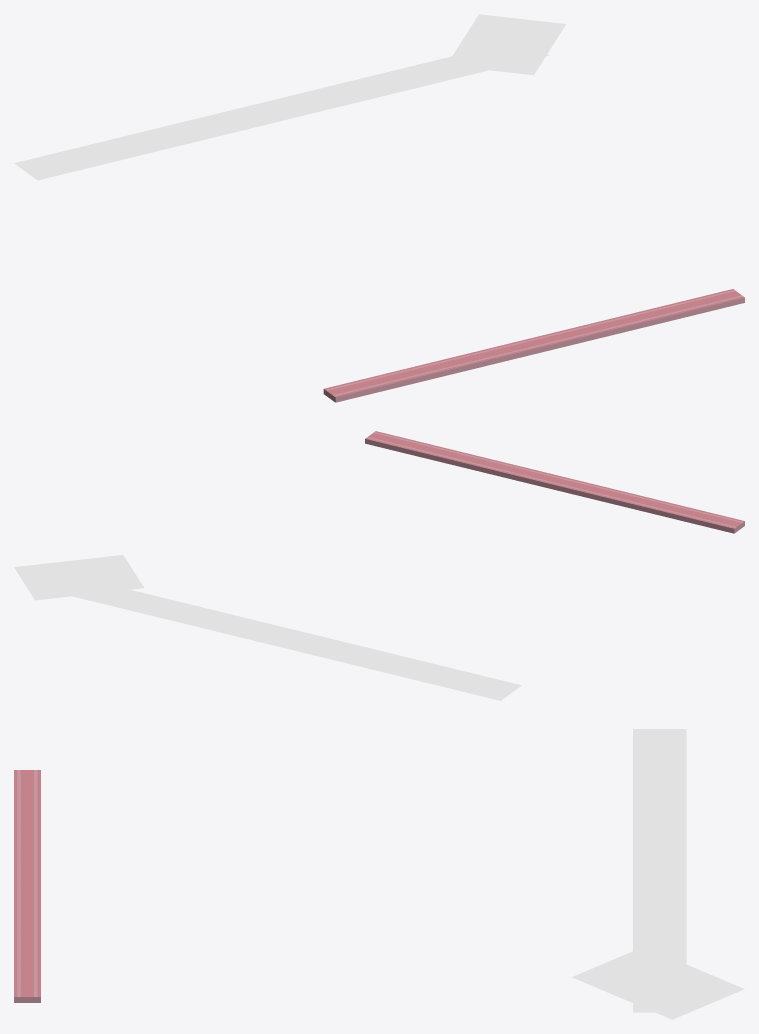
File: Bridge2.fbx
The picture shows the model from 3 angles, top to bottom: view 1: azimuth 30°, elevation 25°; view 2: azimuth 150°, elevation 25°; view 3: azimuth 270°, elevation 25°; orthographic projection. The views are drawn at different scales.
Parts seen in each view (by area): view 1: _CombinedGroup_HidingPlanesChild_GripRotate_Water, _CombinedGroup_HidingPlanesChild_GripRotate_Reflection; view 2: _CombinedGroup_HidingPlanesChild_GripRotate_Water, _CombinedGroup_HidingPlanesChild_GripRotate_Reflection; view 3: _CombinedGroup_HidingPlanesChild_GripRotate_Water, _CombinedGroup_HidingPlanesChild_GripRotate_Reflection.
Boxes of the visible parts, bbox=[...] form: _CombinedGroup_HidingPlanesChild_GripRotate_Water: bbox=[14, 54, 548, 180]; _CombinedGroup_HidingPlanesChild_GripRotate_Reflection: bbox=[447, 14, 565, 75]; _CombinedGroup_HidingPlanesChild_GripRotate_Water: bbox=[73, 589, 521, 700]; _CombinedGroup_HidingPlanesChild_GripRotate_Reflection: bbox=[14, 555, 143, 600]; _CombinedGroup_HidingPlanesChild_GripRotate_Water: bbox=[633, 729, 686, 1012]; _CombinedGroup_HidingPlanesChild_GripRotate_Reflection: bbox=[572, 946, 744, 1019].
Bounding box in the file's own units: 26.68 × 1.84 × 27.23.
3 materials, 1 textured.
